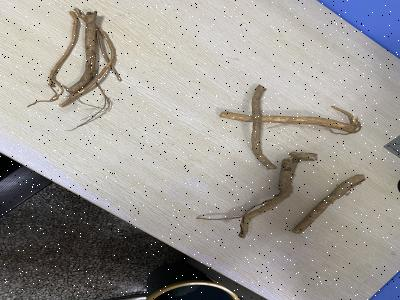Root: (220, 85, 362, 170), (197, 152, 317, 238), (28, 8, 122, 107), (292, 175, 365, 234)
